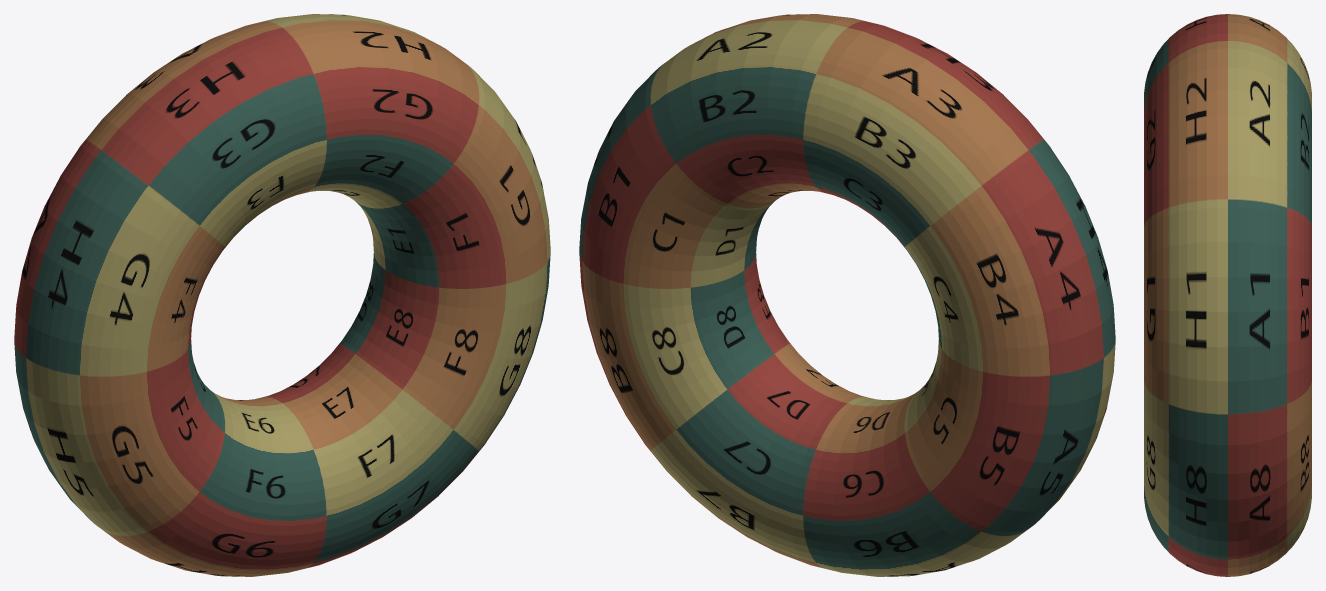
File: texture_torus_R8_r17.glb
The picture shows the model from 3 angles, left to right: view 1: azimuth 30°, elevation 25°; view 2: azimuth 150°, elevation 25°; view 3: azimuth 270°, elevation 25°; orthographic projection. The views are drawn at different scales.
Parts seen in each view (by area): view 1: world; view 2: world; view 3: world.
Boxes of the visible parts, <box> form: world: <box>14,14,550,576</box>; world: <box>579,14,1115,576</box>; world: <box>1144,14,1311,576</box>.
Bounding box in the file's own units: 21.87 × 21.82 × 6.52.
1 material, 1 textured.
